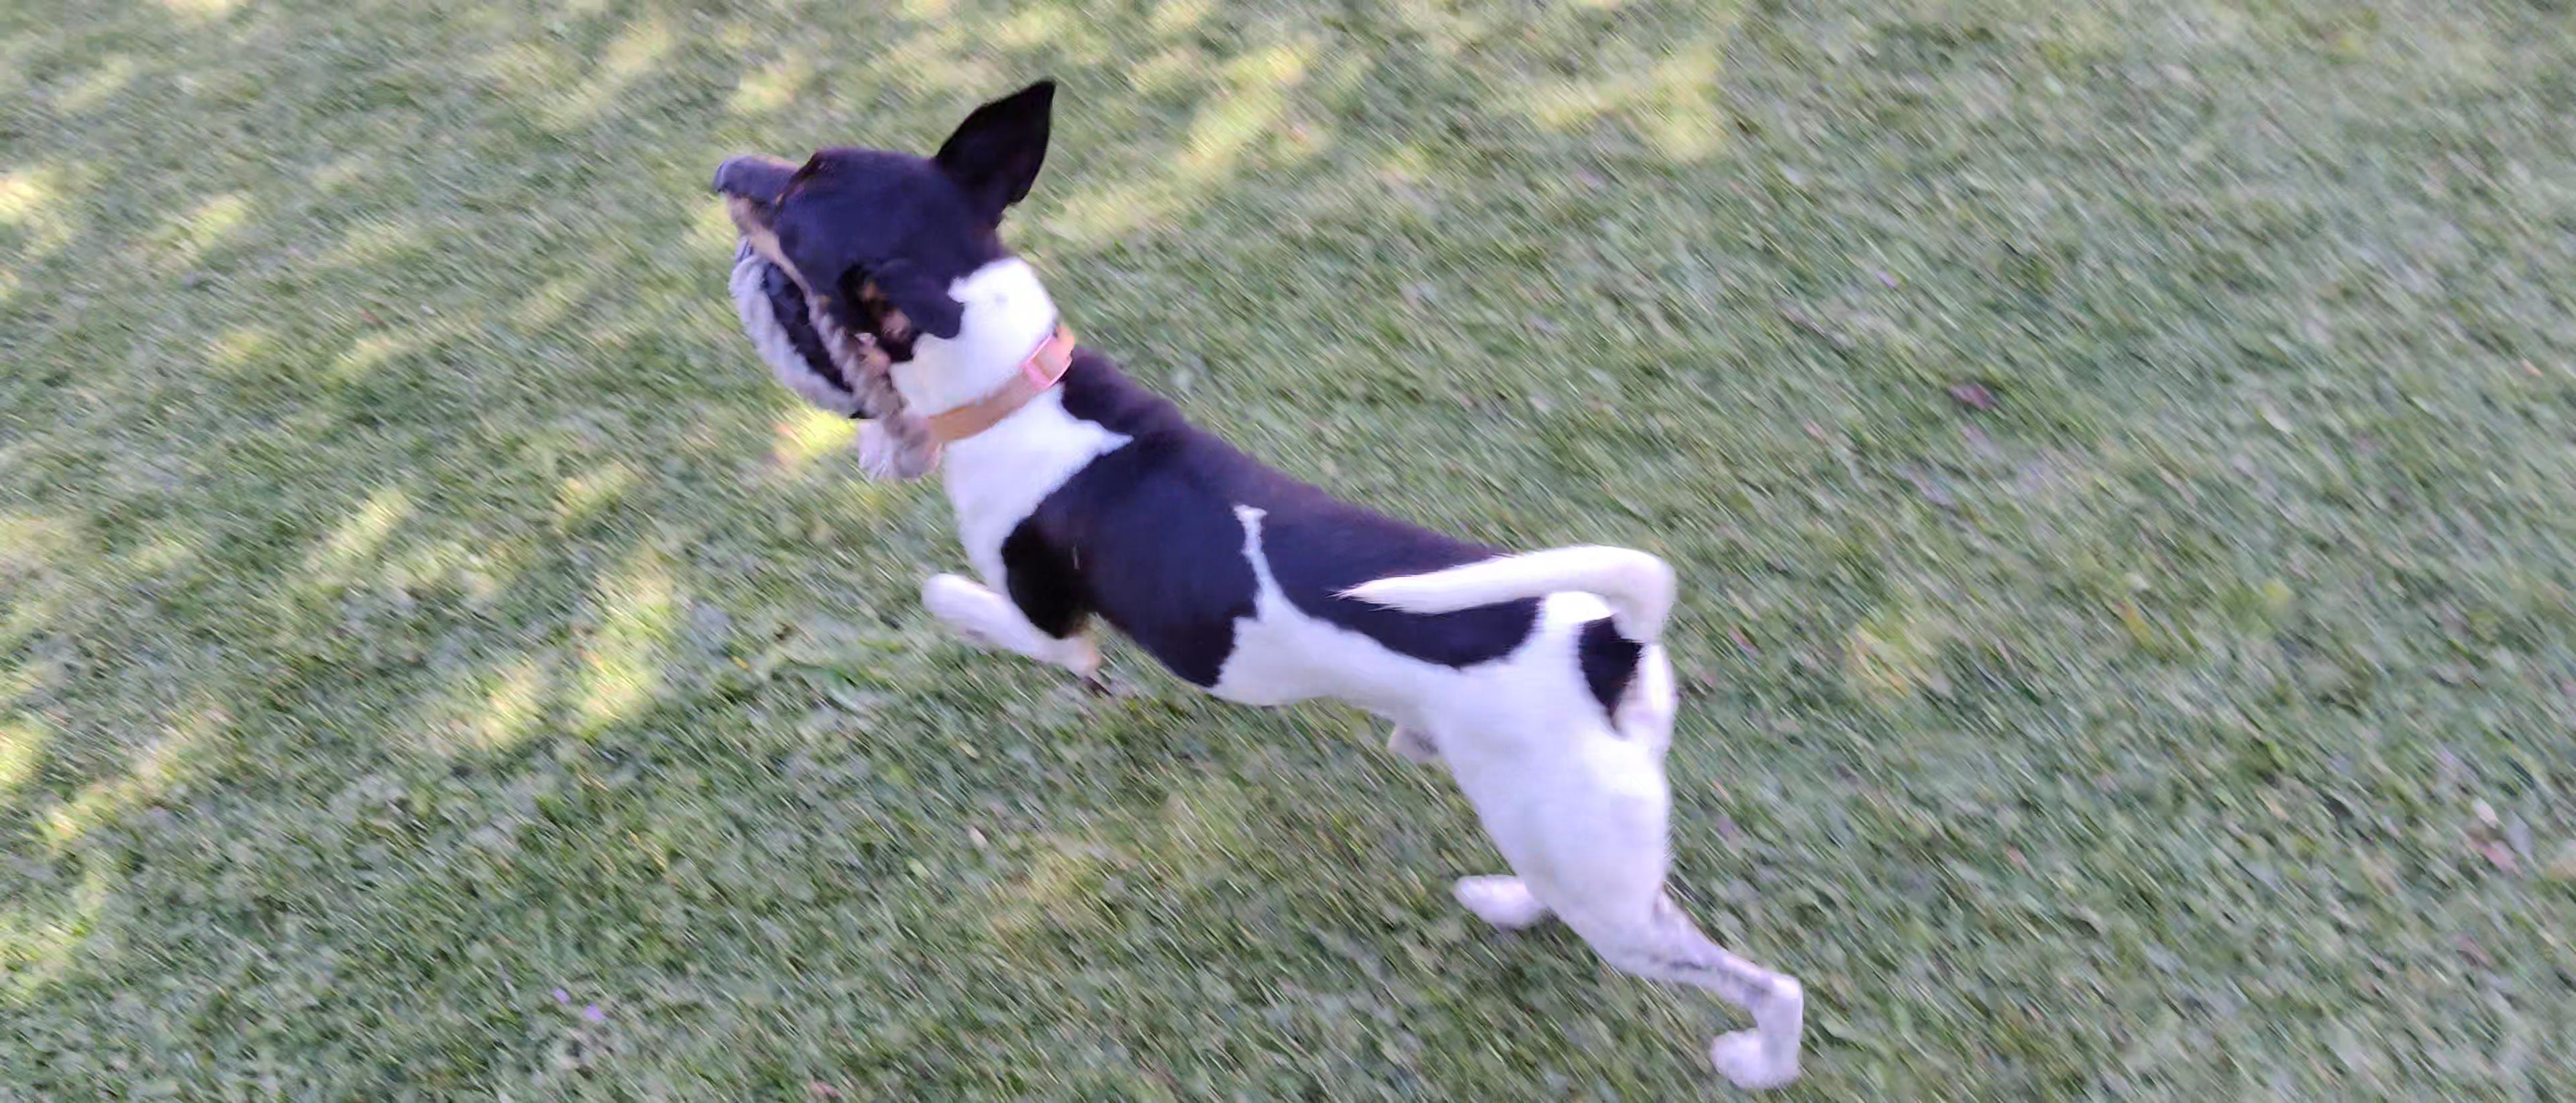Dog: (708, 67, 1809, 1088)
